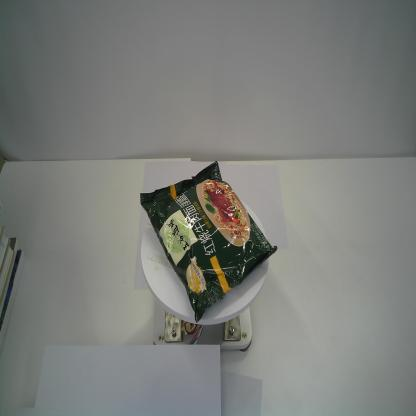Instant Noodles: (138, 159, 279, 325)
